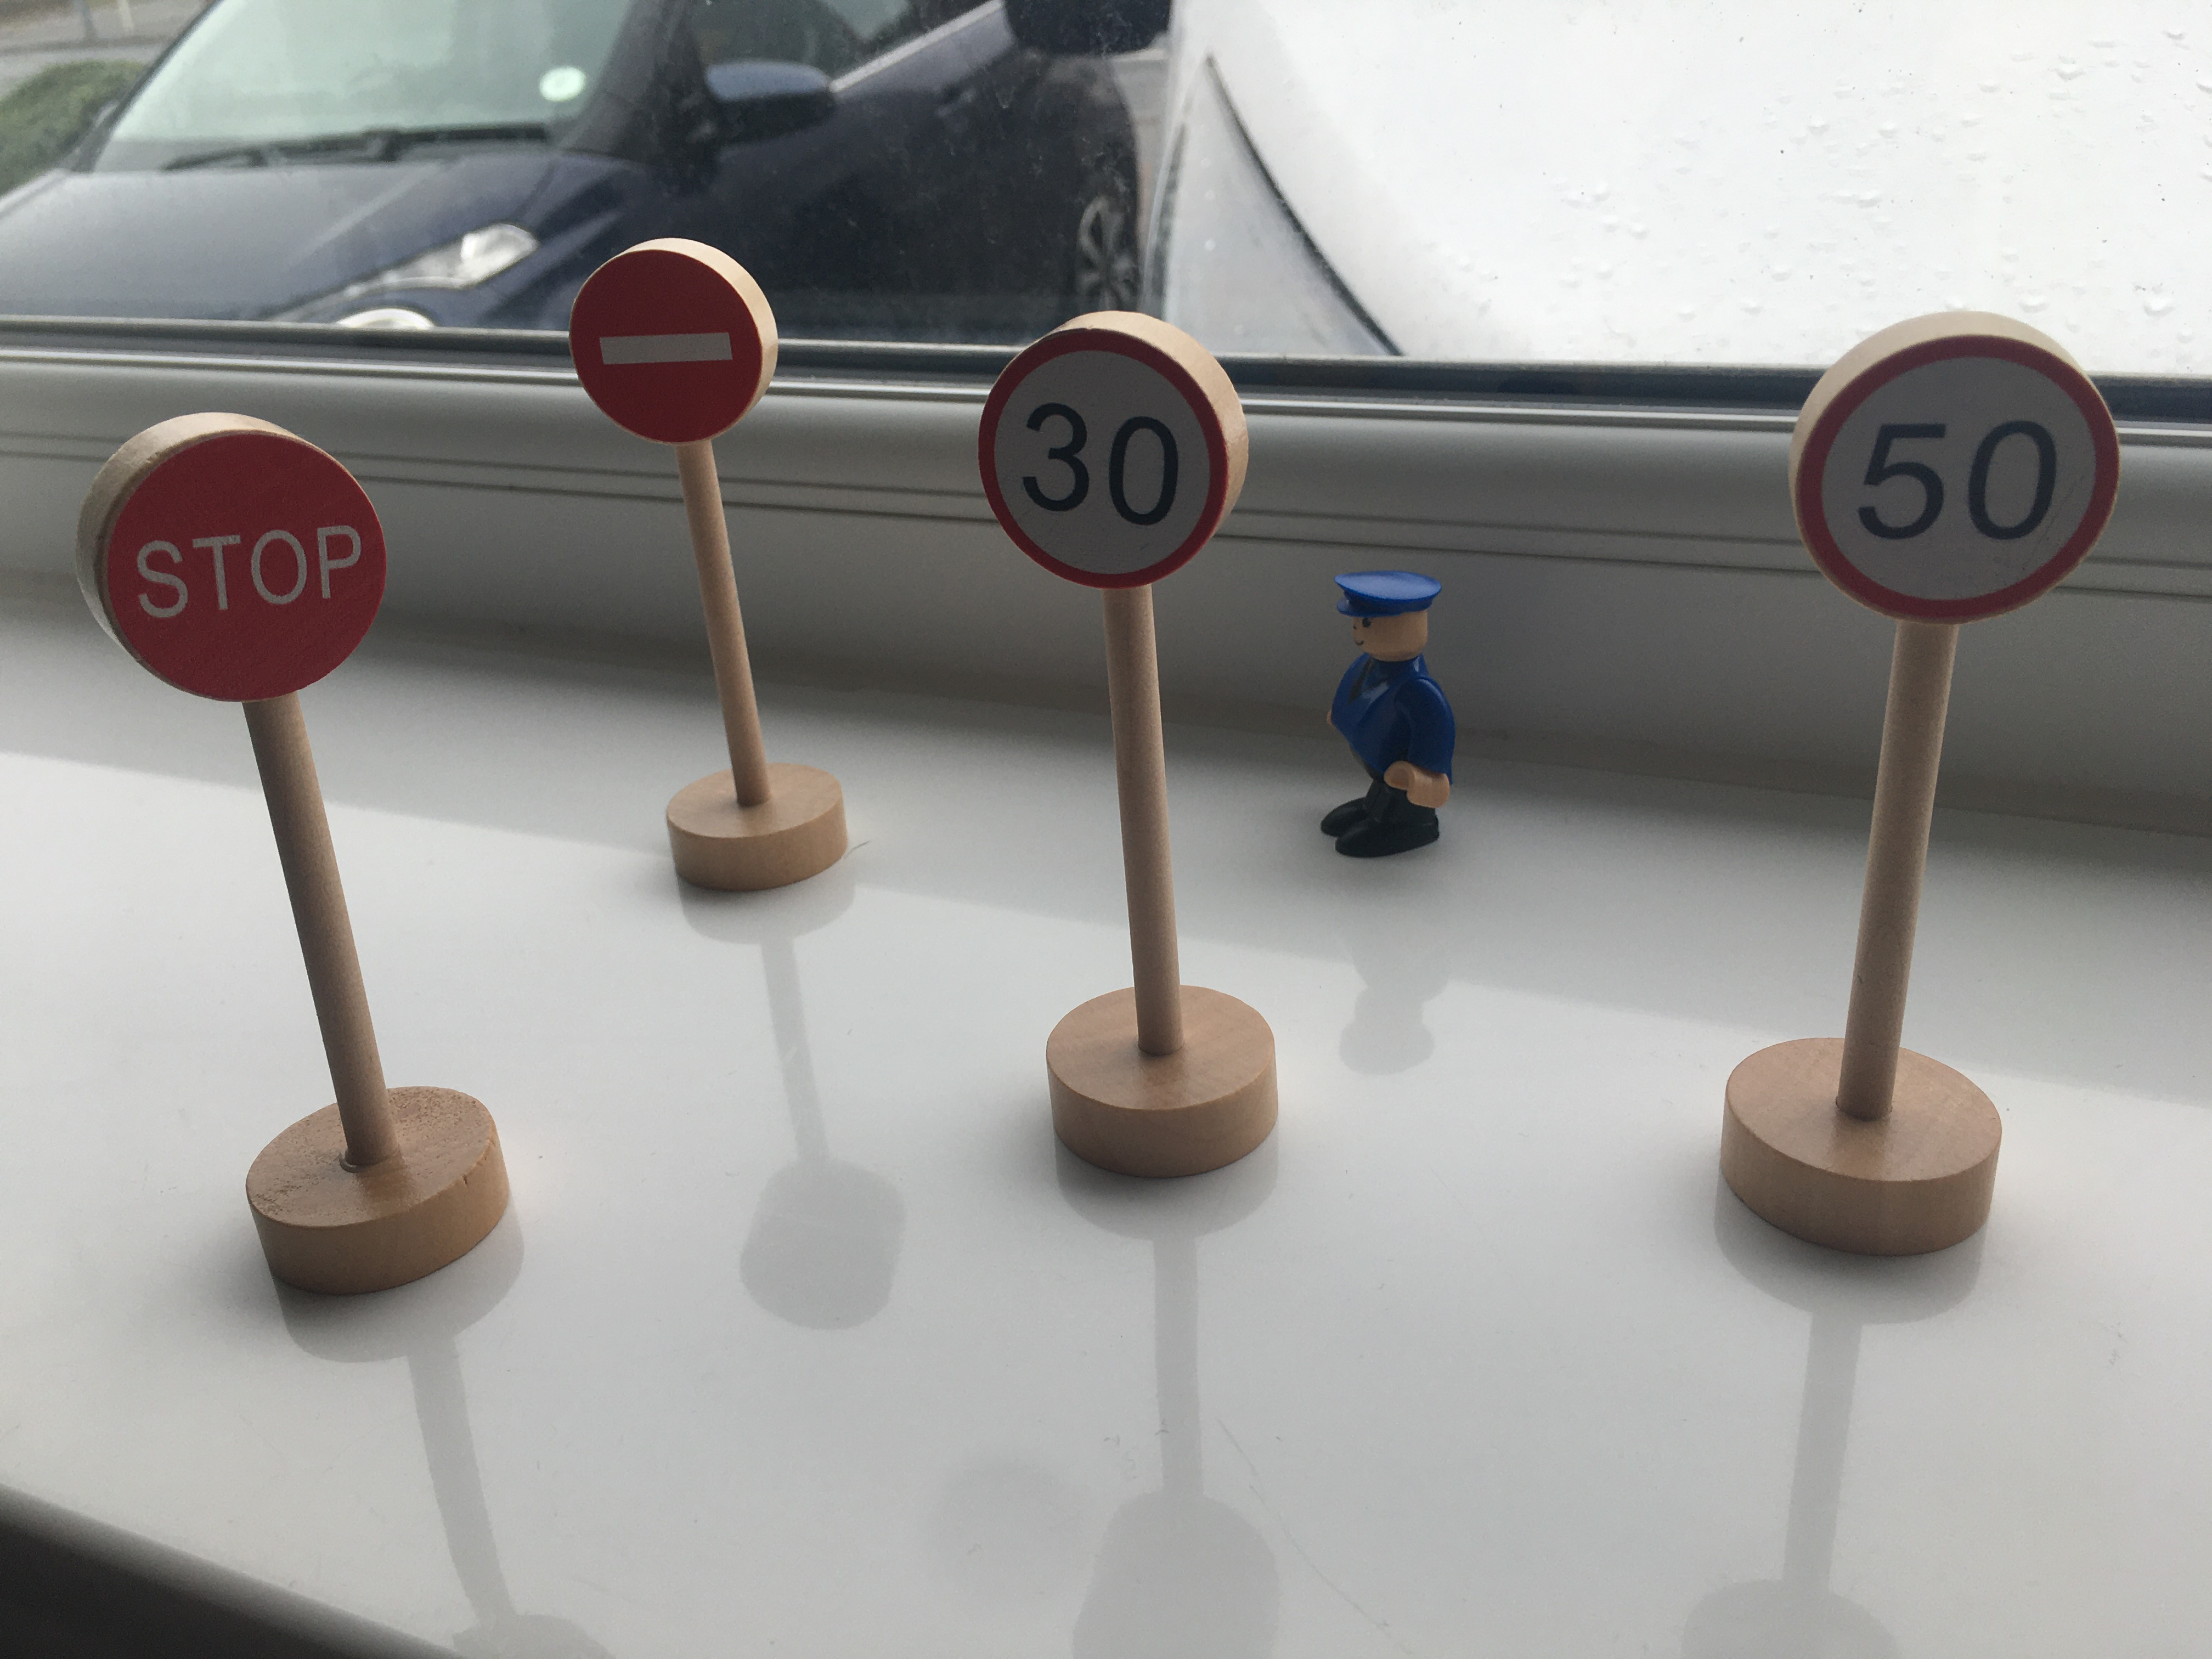Traffic_Sign_30: (976, 329, 1233, 589)
Traffic_Sign_50: (1794, 331, 2121, 627)
Traffic_Sign_No_Entry: (568, 243, 774, 444)
Traffic_Sign_Stop: (97, 427, 392, 711)
person: (1314, 555, 1470, 871)
